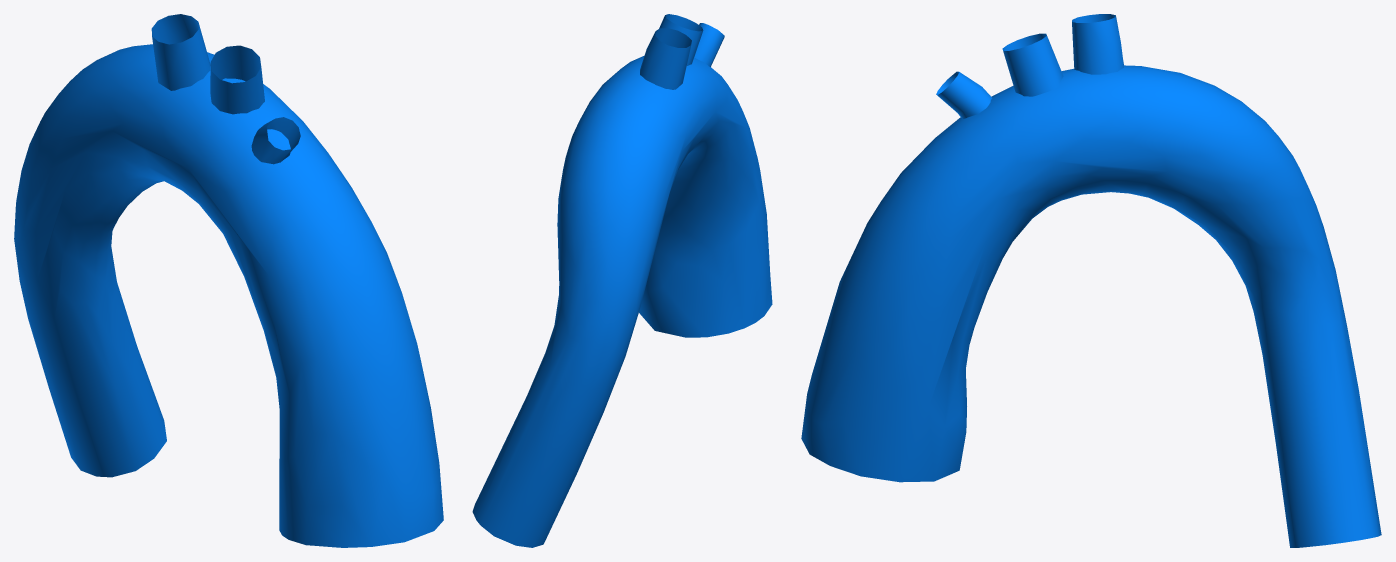
Rendered from arotatransposition.gltf.
3 renders of one model, left to right at view 1: azimuth 30°, elevation 25°; view 2: azimuth 150°, elevation 25°; view 3: azimuth 270°, elevation 25°, orthographic. The views are drawn at different scales.
Visible parts, largest first — view 1: NurbsPath.002; view 2: NurbsPath.002; view 3: NurbsPath.002.
Part boxes in pixels (x1,y1,x2,y2): NurbsPath.002: [14, 14, 443, 547]; NurbsPath.002: [472, 14, 772, 547]; NurbsPath.002: [801, 14, 1381, 547].
Size of the model in its own units: 1.31 by 3.5 by 3.6.
